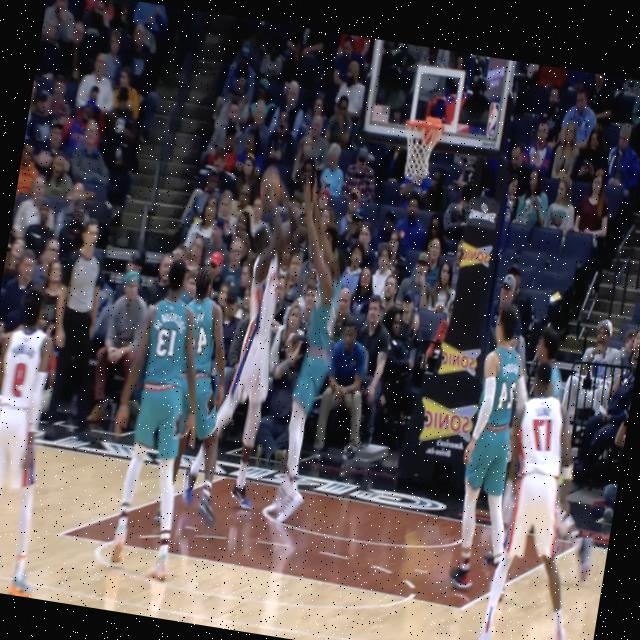no foul: (184, 150, 370, 552), (77, 234, 238, 589), (432, 299, 597, 640)
